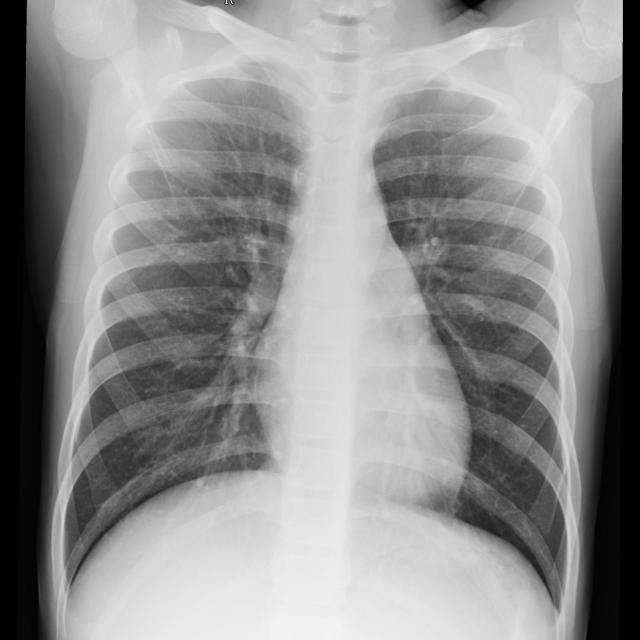no-pneumonia: (55, 78, 307, 603), (374, 89, 581, 611)
